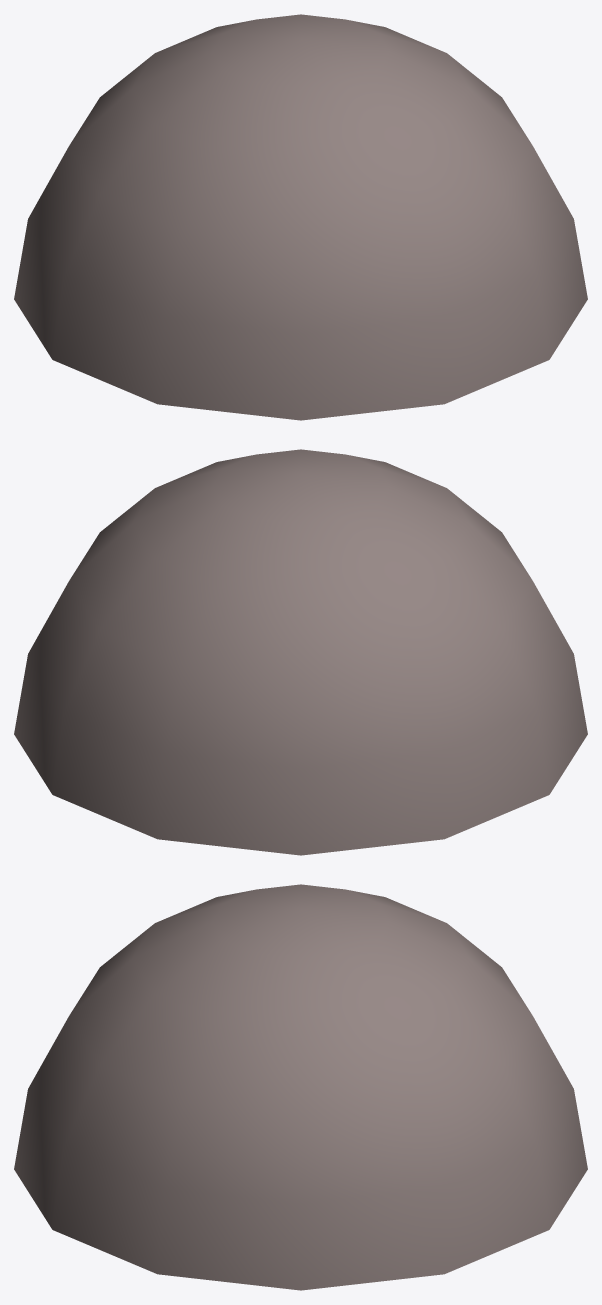
The model's file is SM_ToitSphere.FBX.
3 renders of one model, top to bottom at view 1: azimuth 30°, elevation 25°; view 2: azimuth 150°, elevation 25°; view 3: azimuth 270°, elevation 25°, orthographic.
Visible parts, largest first — view 1: SM_ToitSphere; view 2: SM_ToitSphere; view 3: SM_ToitSphere.
Boxes of the visible parts, bbox=[...] form: SM_ToitSphere: bbox=[14, 14, 587, 420]; SM_ToitSphere: bbox=[14, 449, 587, 855]; SM_ToitSphere: bbox=[14, 884, 587, 1290].
Bounding box in the file's own units: 200 × 100 × 200.
